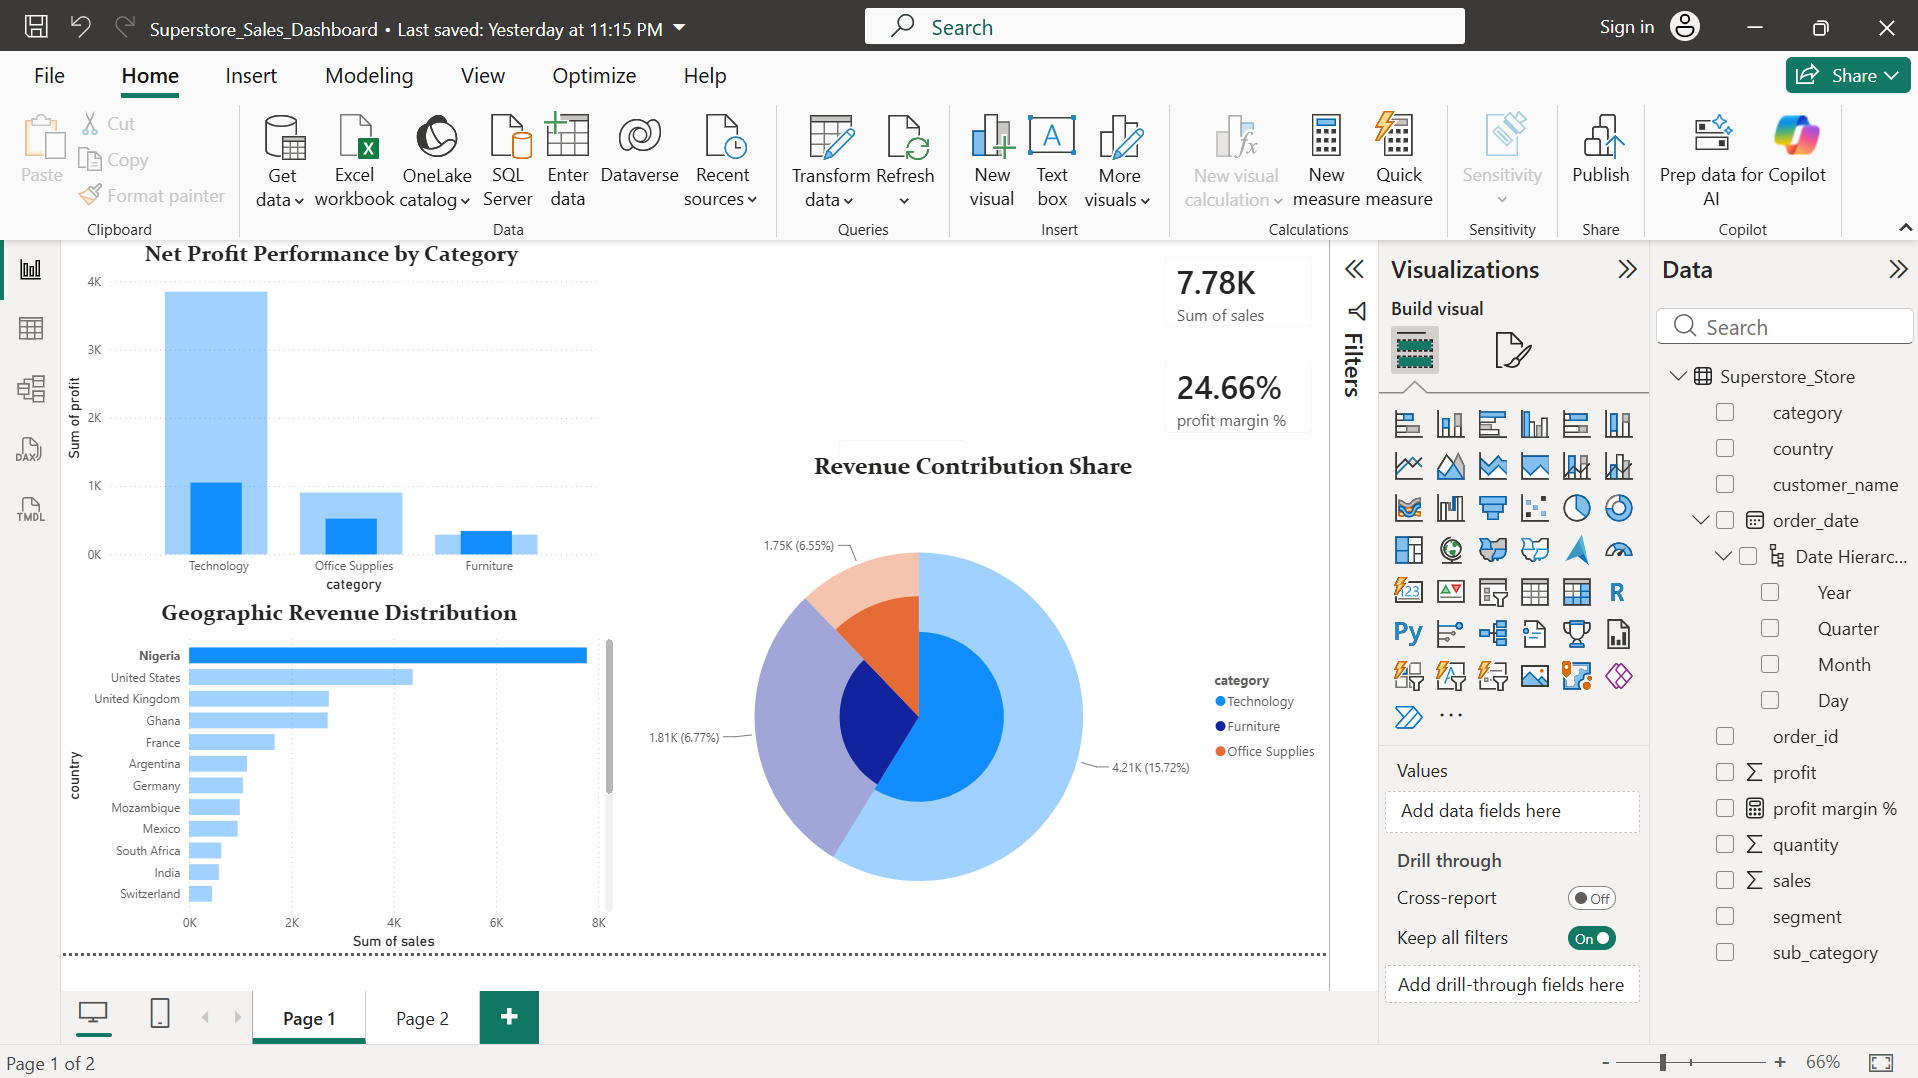

The page's visual inventory and layout, read from the dashboard file:
{"tool":"powerbi","page":{"name":"Page 1","canvas":[1280,720],"ordinal":0},"visuals":[{"type":"cardVisual","fields":{"Data":["Sum(Superstore_Store.sales)"]},"box":[768.3,185,163.3,175],"z":0},{"type":"cardVisual","fields":{"Data":["Sum(Superstore_Store.sales)"]},"box":[1096.3,0,183.2,104.5],"z":1000},{"type":"pieChart","title":"Revenue Contribution Share","fields":{"Category":["Superstore_Store.category"],"Y":["Sum(Superstore_Store.sales)"]},"box":[561.8,213.5,717.7,505.7],"z":2000},{"type":"columnChart","title":"Net Profit Performance by Category","fields":{"Category":["Superstore_Store.category"],"Y":["Sum(Superstore_Store.profit)"]},"box":[0,0,546,360],"z":3001},{"type":"barChart","title":"Geographic Revenue Distribution","fields":{"Category":["Superstore_Store.country"],"Y":["Sum(Superstore_Store.sales)"]},"box":[0,362,562,358],"z":3002},{"type":"cardVisual","fields":{"Data":["Superstore_Store.profit margin %"]},"box":[1096.3,104.5,183.2,107.5],"z":3003}]}

Visuals, with their boxes on the page's 1280x720 design canvas (x1, y1, x2, y2). These are canvas units, not pixel positions in the 1918x1078 screenshot, which may show the page scaled, cropped or inside an application window:
cardVisual - Sum(Superstore_Store.sales): x1=768 y1=185 x2=932 y2=360
cardVisual - Sum(Superstore_Store.sales): x1=1096 y1=0 x2=1280 y2=104
"Revenue Contribution Share" pieChart: x1=562 y1=214 x2=1280 y2=719
"Net Profit Performance by Category" columnChart: x1=0 y1=0 x2=546 y2=360
"Geographic Revenue Distribution" barChart: x1=0 y1=362 x2=562 y2=720
cardVisual - Superstore_Store.profit margin %: x1=1096 y1=104 x2=1280 y2=212
